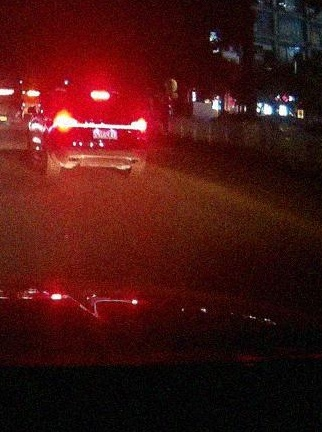L_light: (54, 114, 77, 128)
R_light: (130, 118, 147, 131)
T_light: (91, 91, 109, 99)
night-left: (52, 88, 147, 178)
